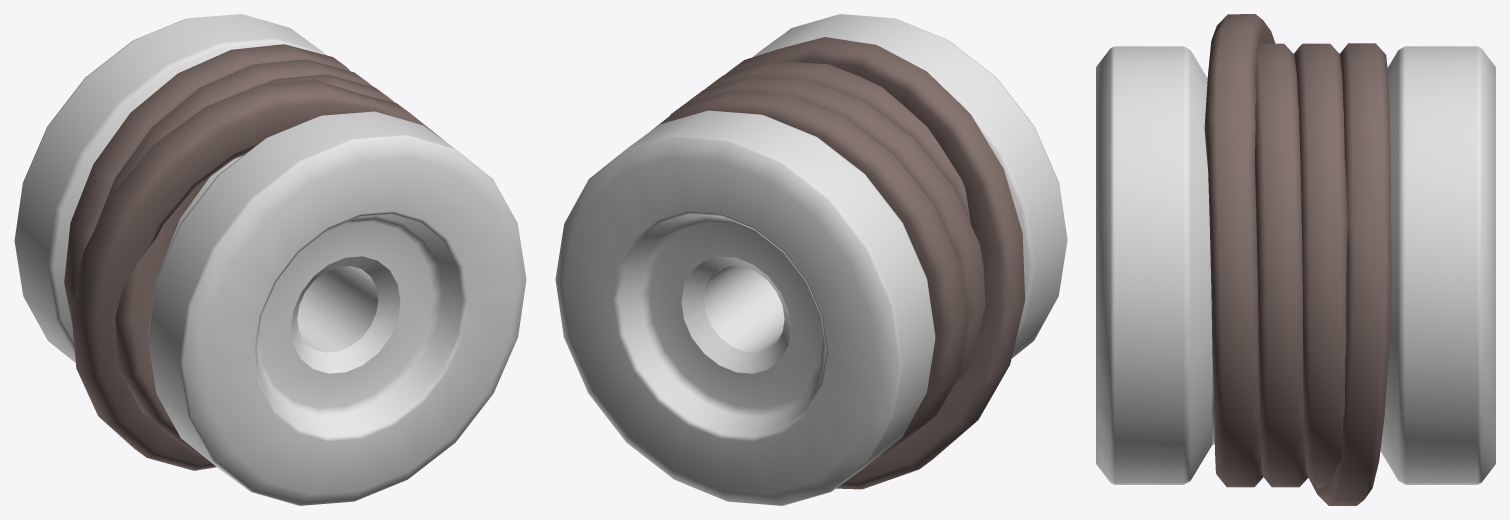
The model's file is elevator_roperoll.fbx.
The picture shows the model from 3 angles, left to right: view 1: azimuth 30°, elevation 25°; view 2: azimuth 150°, elevation 25°; view 3: azimuth 270°, elevation 25°; orthographic projection. The views are drawn at different scales.
Visible parts, largest first — view 1: pCylinder40; view 2: pCylinder40; view 3: pCylinder40.
Part boxes in pixels (x1,y1,x2,y2): pCylinder40: [14, 14, 526, 505]; pCylinder40: [555, 14, 1067, 505]; pCylinder40: [1096, 14, 1495, 505].
Size of the model in its own units: 19.75 by 20.39 by 16.51.
